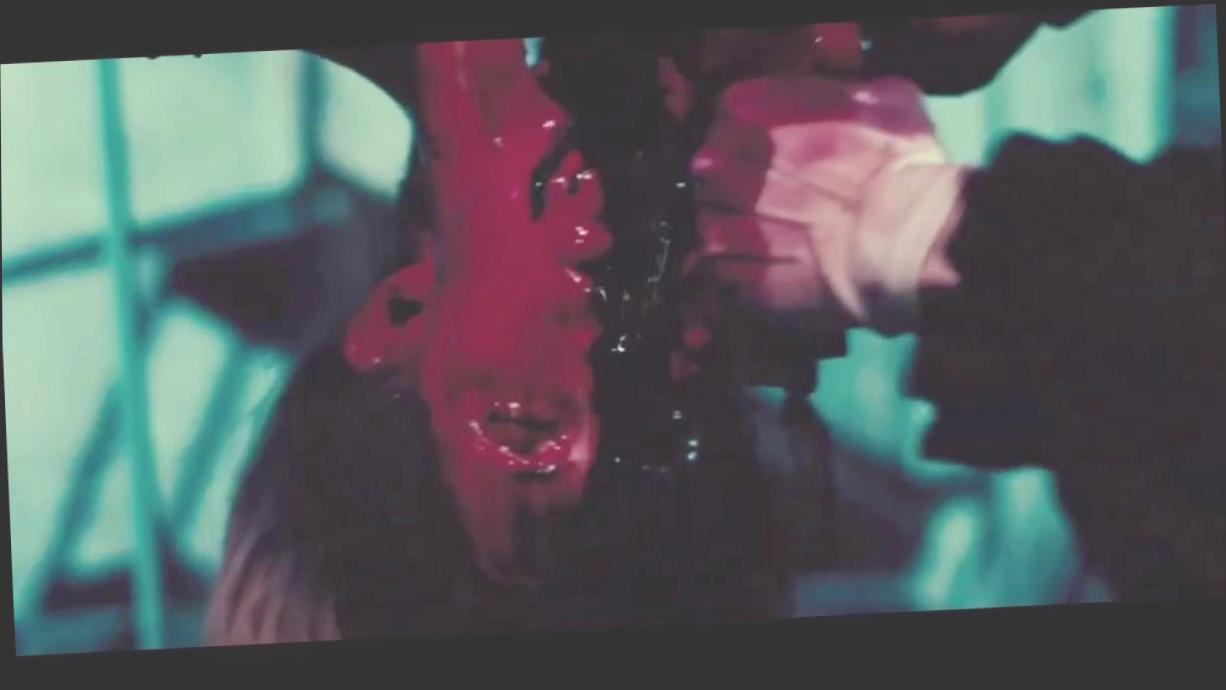Fire: (324, 17, 1049, 593)
